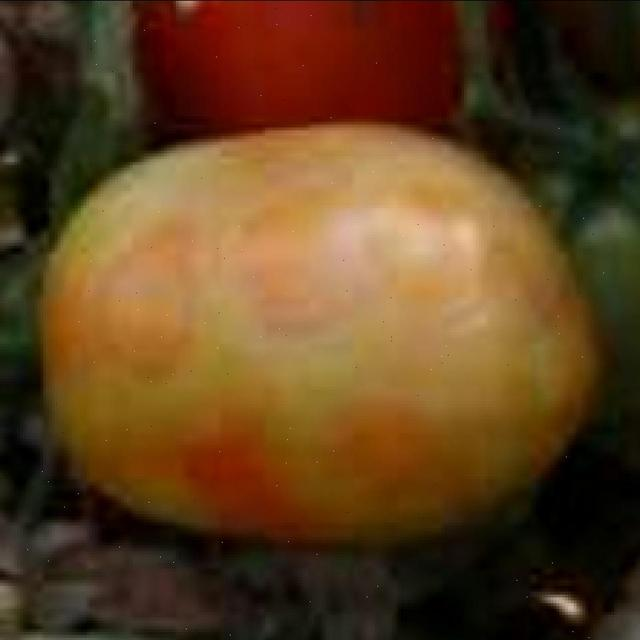Spotted wilt Virus Fruit: (24, 81, 401, 364)
